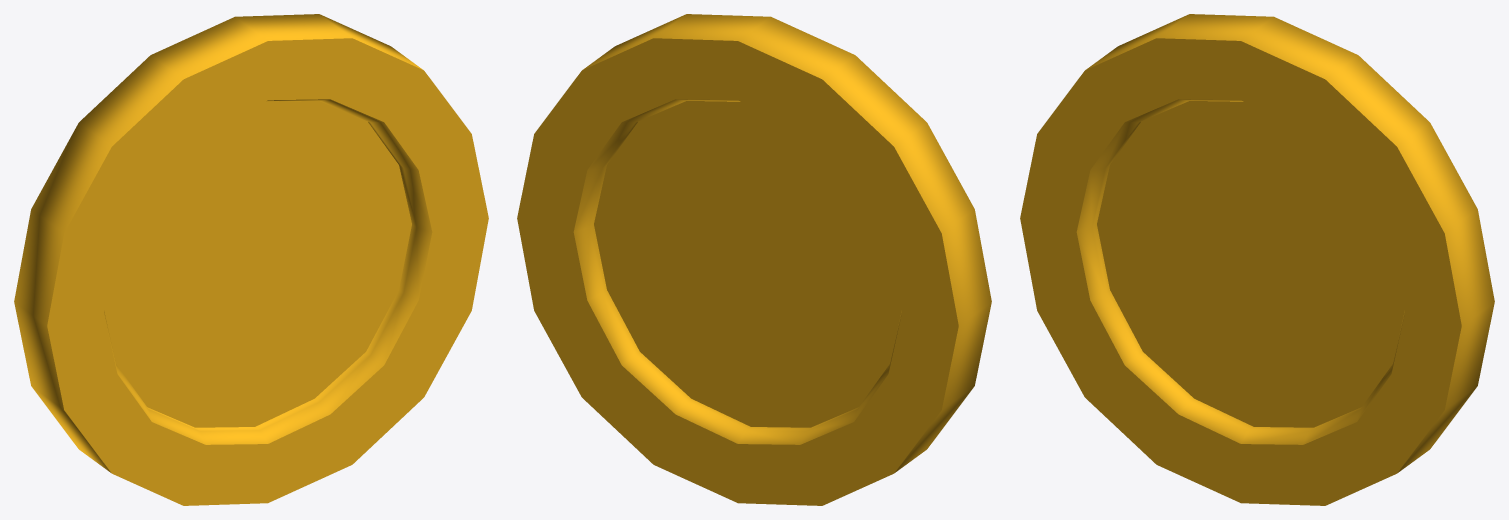
Rendered from Coin.fbx.
3 renders of one model, left to right at view 1: azimuth 30°, elevation 25°; view 2: azimuth 150°, elevation 25°; view 3: azimuth 330°, elevation 25°, orthographic.
Parts seen in each view (by area): view 1: Coin; view 2: Coin; view 3: Coin.
Boxes of the visible parts, left/top/right/bottom form: Coin: left=14, top=14, right=488, bottom=505; Coin: left=517, top=14, right=991, bottom=505; Coin: left=1020, top=14, right=1494, bottom=505.
Size of the model in its own units: 0.5494 by 0.5494 by 0.0714.
